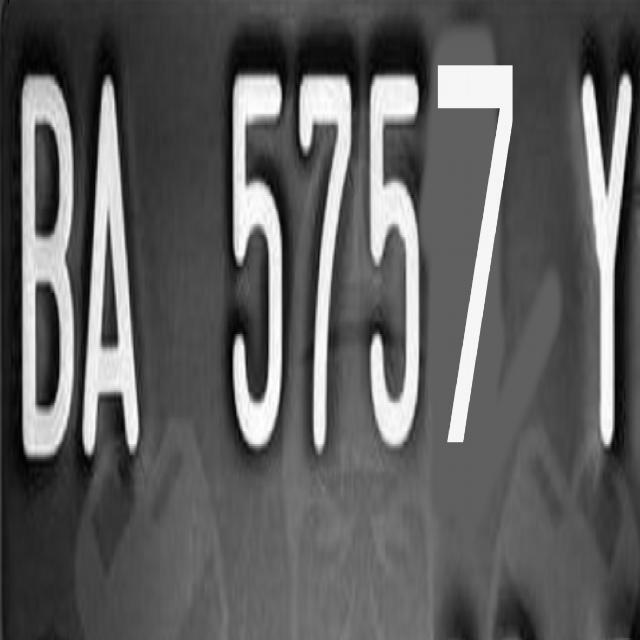5: (363, 68, 435, 454), (220, 60, 288, 458)
7: (436, 58, 526, 466), (296, 60, 344, 464)
A: (71, 68, 167, 456)
B: (12, 72, 82, 457)
Y: (558, 53, 640, 466)
